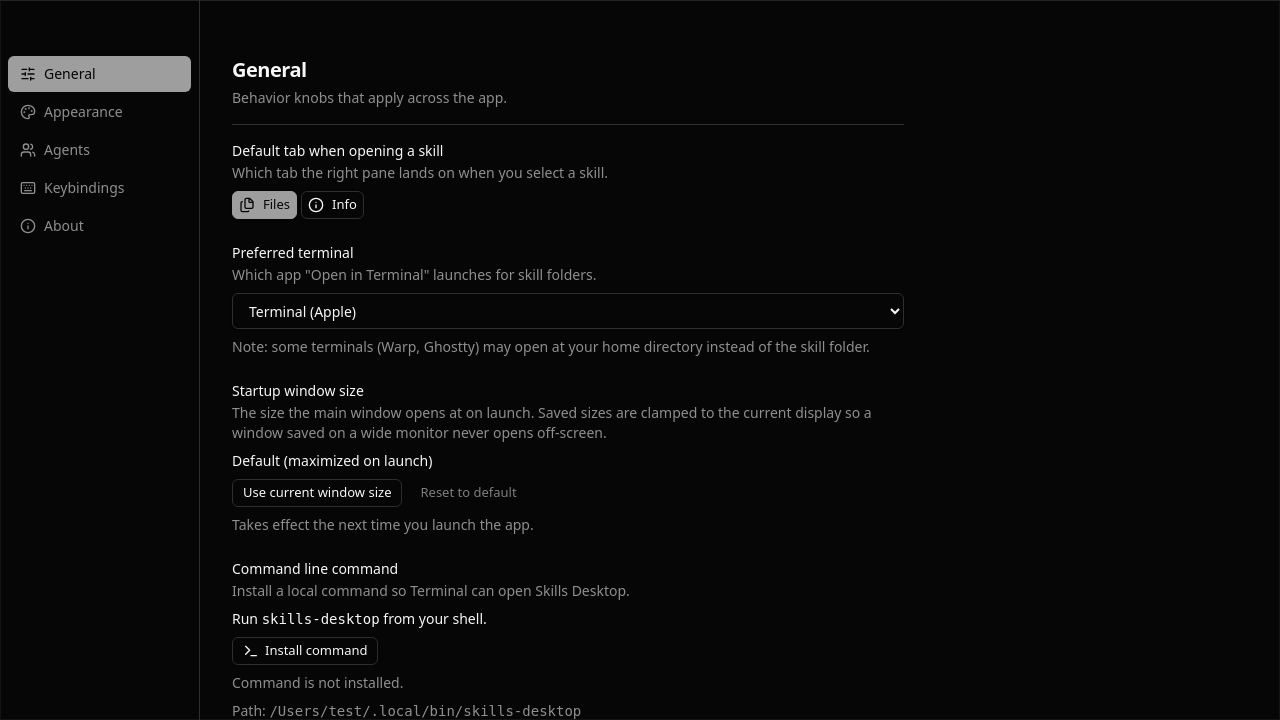
Scenario: Settings window navigation › shows the Appearance pane when its nav item is selected
Click the button "Appearance" at (100, 112), box top-left (8, 94), bottom-right (191, 130)
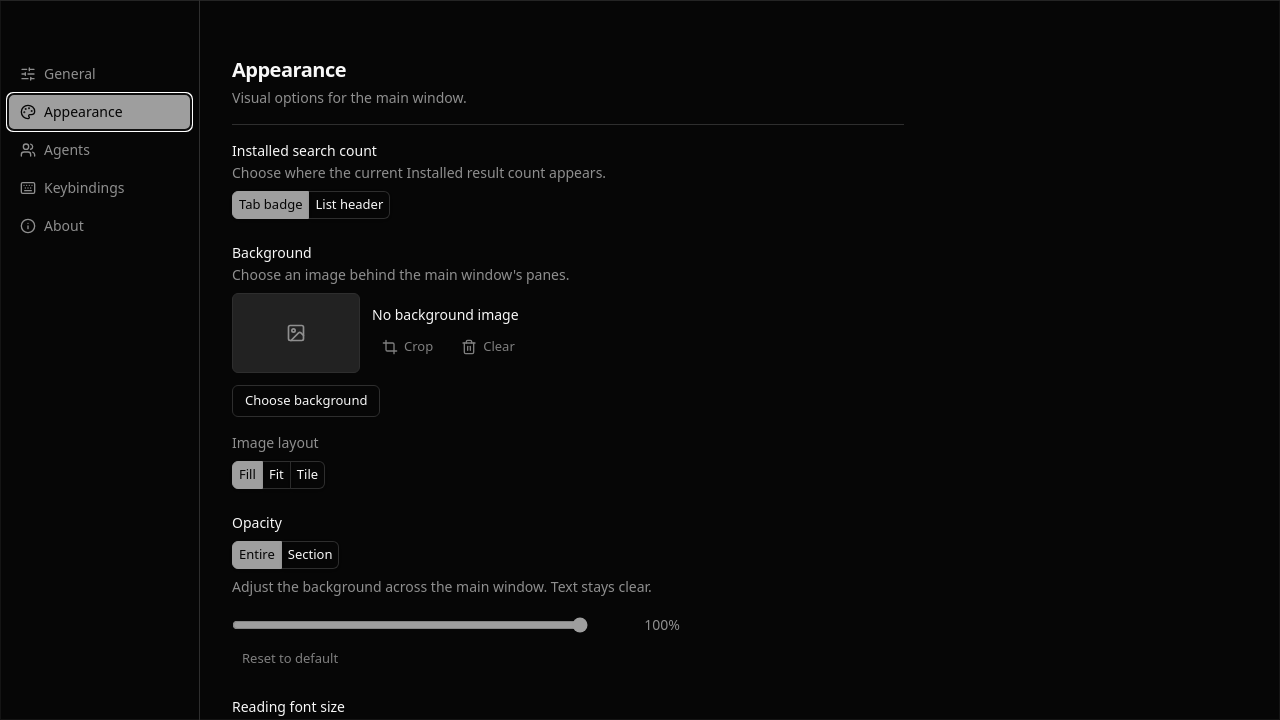
expect the heading "Appearance" is shown: met, box top-left (232, 56), bottom-right (346, 83)
